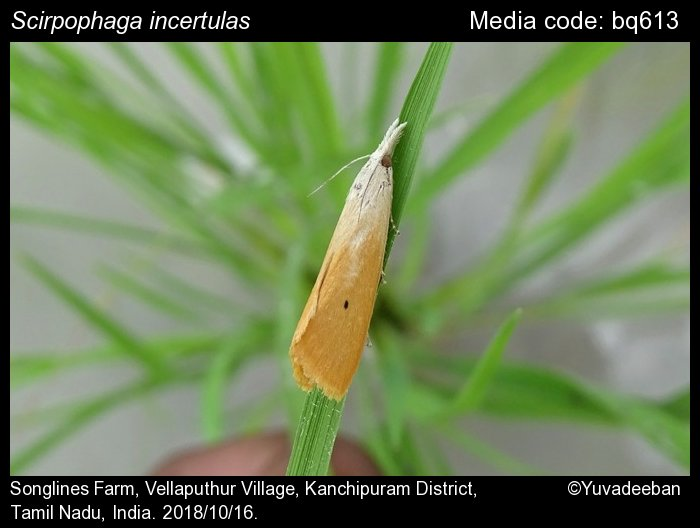Crambidae: (286, 123, 413, 406)
